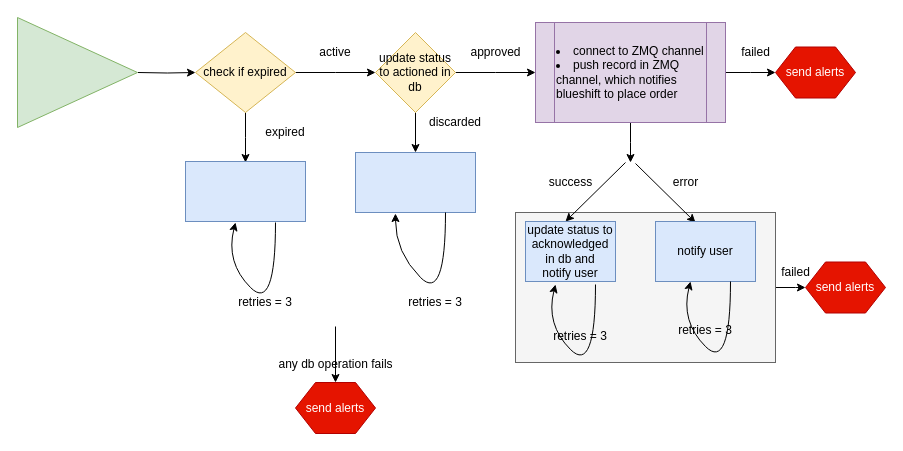
Image size: 903x451. Some labels were removed from this diagram. Here are the shapes that lost their labels. From the top down, the centre of each, then its label:
At pixel 77 72: "user acts on trade".
At pixel 245 191: "update status to expired in db respond with (expired)".
At pixel 415 182: "update user_action to discarded respond with (discarded)".
